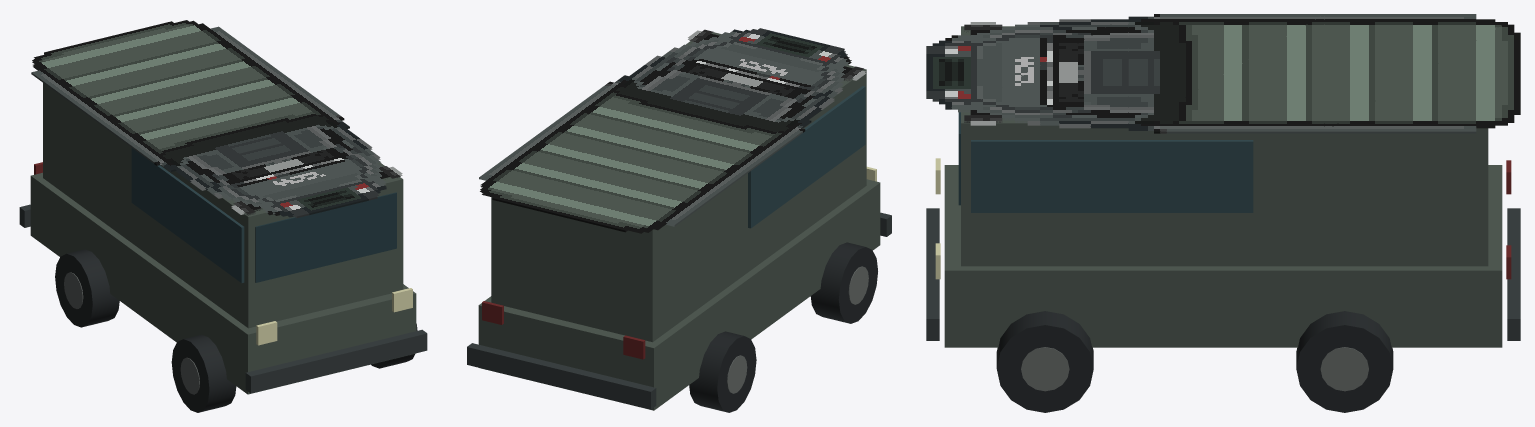
The model's file is CMU3DReduxAU14VehicleCivVan.glb.
The picture shows the model from 3 angles, left to right: view 1: azimuth 30°, elevation 25°; view 2: azimuth 150°, elevation 25°; view 3: azimuth 270°, elevation 25°; orthographic projection. The views are drawn at different scales.
Visible parts, largest first — view 1: source hull roof panel (×3), upper hull, closed lower chassis, cab windscreen, cab side window, road tire (×2), front bumper, wheel hub (×2), front light (×2); view 2: source hull roof panel (×3), upper hull, closed lower chassis, cab side window, road tire (×2), rear bumper, wheel hub (×2), rear marker (×2); view 3: source hull roof panel (×3), upper hull, closed lower chassis, cab side window, road tire (×2), wheel hub (×2), rear bumper, front bumper.
Part boxes in pixels (<box>): source hull roof panel (×3): <box>31,20,402,218</box>; upper hull: <box>43,83,403,328</box>; closed lower chassis: <box>30,172,416,394</box>; cab windscreen: <box>255,192,396,282</box>; cab side window: <box>131,148,244,283</box>; road tire (×2): <box>55,249,236,412</box>; front bumper: <box>245,329,427,393</box>; wheel hub (×2): <box>64,272,199,394</box>; front light (×2): <box>256,288,412,345</box>; source hull roof panel (×3): <box>479,28,865,233</box>; upper hull: <box>491,32,866,342</box>; closed lower chassis: <box>478,179,880,410</box>; cab side window: <box>748,86,865,228</box>; road tire (×2): <box>689,242,877,412</box>; rear bumper: <box>467,343,656,409</box>; wheel hub (×2): <box>727,266,868,393</box>; rear marker (×2): <box>482,301,645,359</box>; source hull roof panel (×3): <box>926,14,1520,133</box>; upper hull: <box>961,26,1488,266</box>; closed lower chassis: <box>944,165,1502,347</box>; cab side window: <box>971,140,1253,212</box>; road tire (×2): <box>996,311,1393,412</box>; wheel hub (×2): <box>1021,347,1368,391</box>; rear bumper: <box>1507,208,1520,340</box>; front bumper: <box>926,208,939,340</box>.
Bounding box in the file's own units: 1.54 × 1.49 × 2.94.
Materials: 11 (3 with a texture image).
